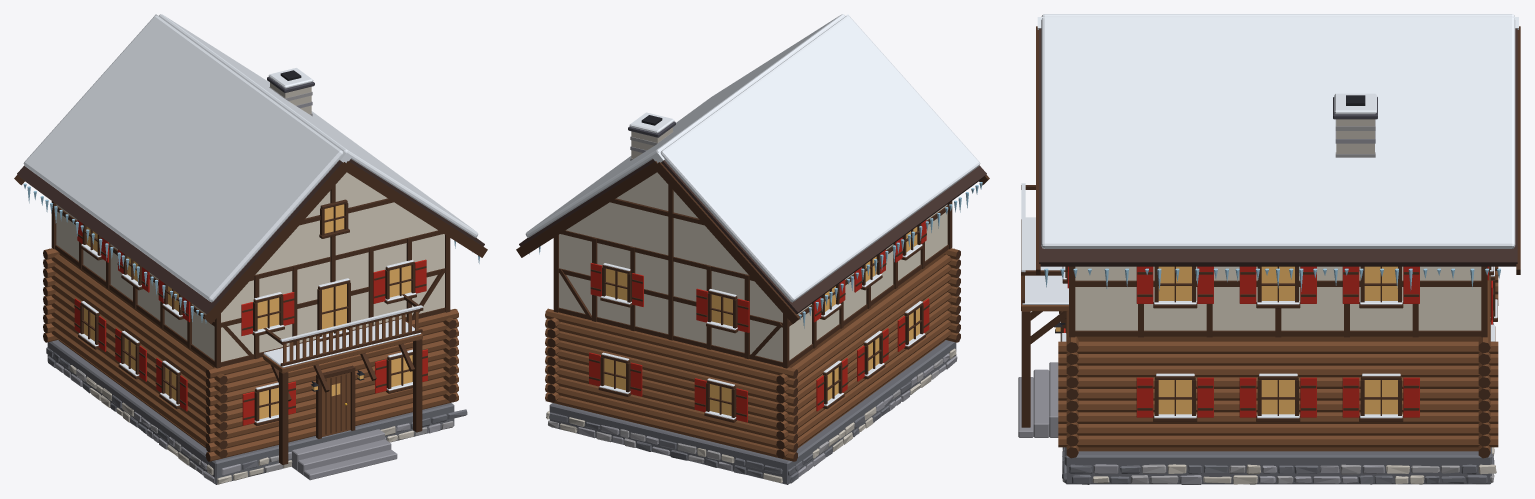
Rendered from lodge.glb.
The picture shows the model from 3 angles, left to right: view 1: azimuth 30°, elevation 25°; view 2: azimuth 150°, elevation 25°; view 3: azimuth 270°, elevation 25°; orthographic projection. The views are drawn at different scales.
Visible parts, largest first — view 1: lodge_Structure, lodge_Windows, lodge_Icicles; view 2: lodge_Structure, lodge_Windows, lodge_Icicles; view 3: lodge_Structure, lodge_Windows, lodge_Icicles.
Boxes of the visible parts, bbox=[...] form: lodge_Structure: bbox=[14, 14, 487, 484]; lodge_Windows: bbox=[84, 204, 412, 419]; lodge_Icicles: bbox=[23, 183, 479, 323]; lodge_Structure: bbox=[516, 14, 989, 484]; lodge_Windows: bbox=[604, 227, 919, 415]; lodge_Icicles: bbox=[529, 182, 982, 328]; lodge_Structure: bbox=[1018, 14, 1520, 484]; lodge_Windows: bbox=[1055, 266, 1397, 414]; lodge_Icicles: bbox=[1044, 268, 1500, 291].
Bounding box in the file's own units: 32.07 × 33.88 × 39.03.
1 material, 1 textured.
